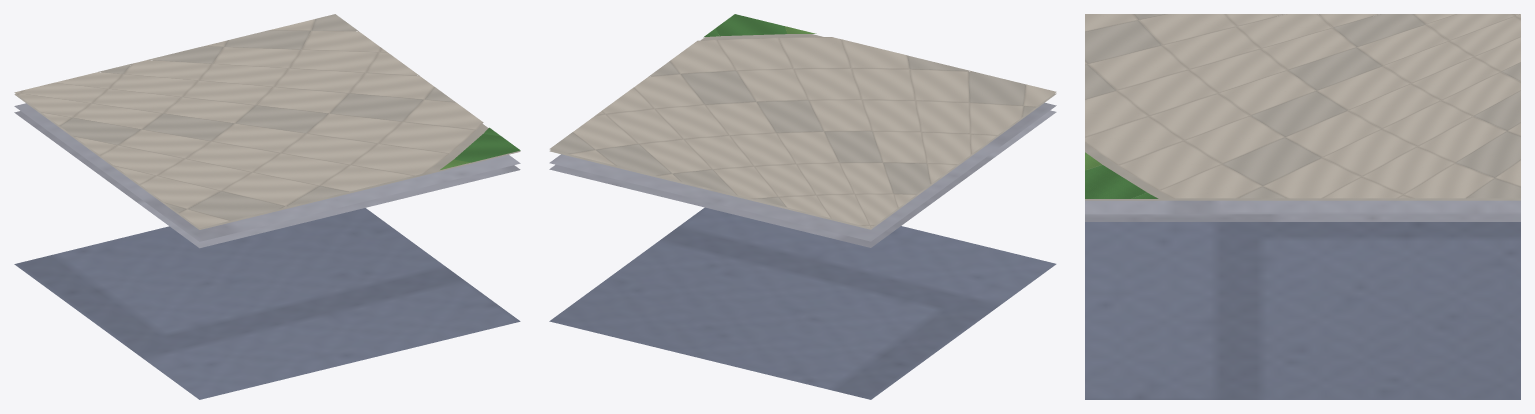
The model's file is high_crown_fracture_45.obj.
3 renders of one model, left to right at view 1: azimuth 30°, elevation 25°; view 2: azimuth 150°, elevation 25°; view 3: azimuth 270°, elevation 25°, orthographic. The views are drawn at different scales.
Parts seen in each view (by area): view 1: ArenaFracture45; view 2: ArenaFracture45; view 3: ArenaFracture45.
Part boxes in pixels (x1,y1,x2,y2): ArenaFracture45: (14,14,520,399); ArenaFracture45: (549,14,1056,399); ArenaFracture45: (1085,14,1520,399).
Size of the model in its own units: 10 by 5.11 by 10.
6 materials, 6 textured.
